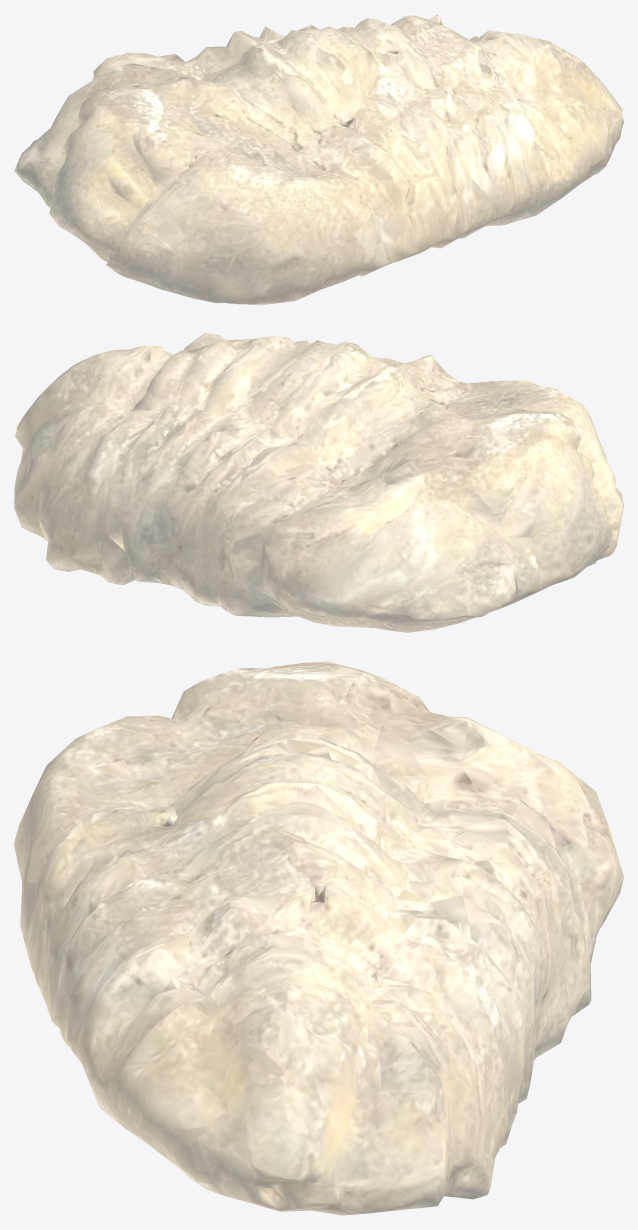
The model's file is trilobite.glb.
3 renders of one model, top to bottom at view 1: azimuth 30°, elevation 25°; view 2: azimuth 150°, elevation 25°; view 3: azimuth 270°, elevation 25°, orthographic. The views are drawn at different scales.
Visible parts, largest first — view 1: Trilobite; view 2: Trilobite; view 3: Trilobite.
Boxes of the visible parts, box(x1,y1,x2,y2) form: Trilobite: box(14, 14, 623, 304); Trilobite: box(14, 333, 623, 632); Trilobite: box(14, 661, 623, 1215).
Bounding box in the file's own units: 1.7 × 0.6072 × 1.12.
Materials: 1 (1 with a texture image).
